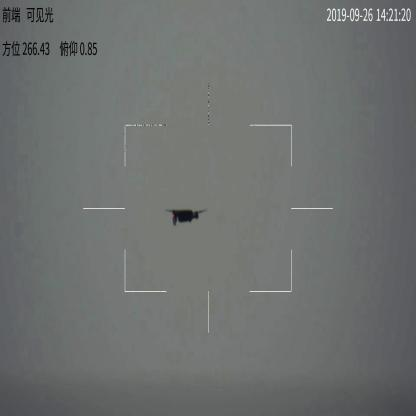uav: (164, 201, 209, 227)
